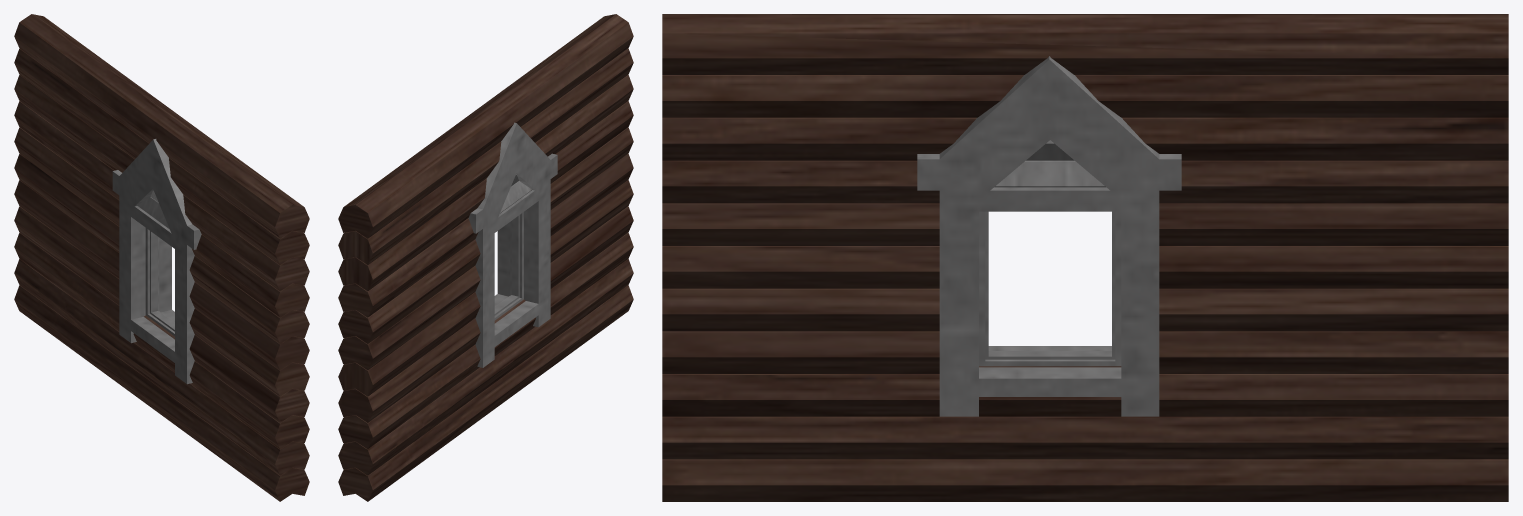
The model's file is barakaduvarı.fbx.
3 renders of one model, left to right at view 1: azimuth 30°, elevation 25°; view 2: azimuth 150°, elevation 25°; view 3: azimuth 270°, elevation 25°, orthographic. The views are drawn at different scales.
Parts seen in each view (by area): view 1: Wall_Wide_01_b; view 2: Wall_Wide_01_b; view 3: Wall_Wide_01_b.
Part boxes in pixels (x1,y1,x2,y2): Wall_Wide_01_b: (14,14,309,501); Wall_Wide_01_b: (338,14,633,501); Wall_Wide_01_b: (662,14,1508,501).
Bounding box in the file's own units: 30.94 × 212 × 341.
